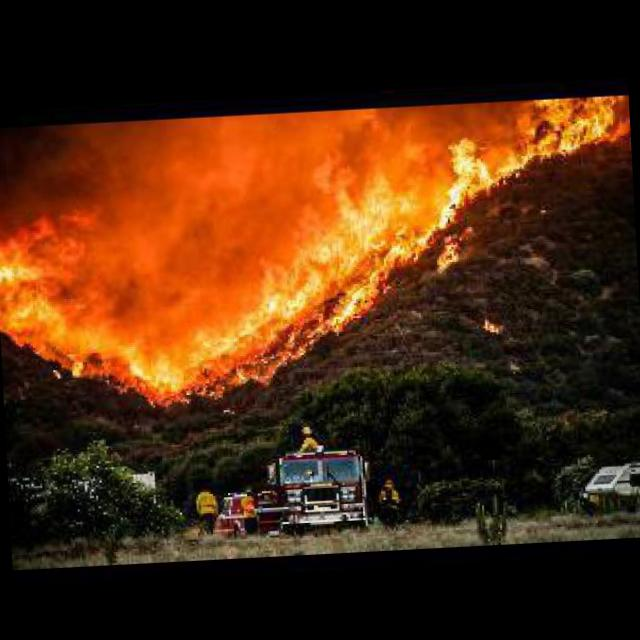fire: (434, 238, 461, 269), (482, 312, 498, 332)
